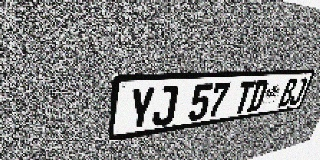5: (187, 83, 214, 121)
7: (205, 82, 231, 119)
B: (277, 78, 299, 107)
D: (246, 80, 269, 112)
J: (151, 85, 179, 127), (288, 78, 308, 106)
T: (232, 81, 256, 114)
Y: (127, 87, 156, 131)
